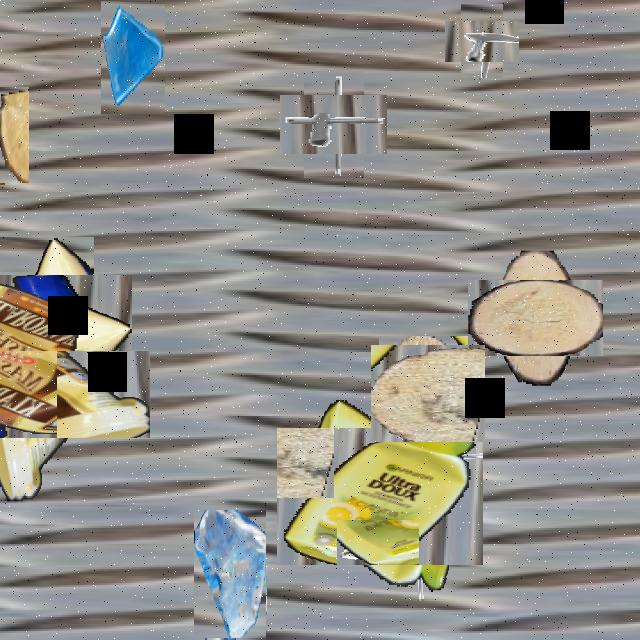glass: (194, 510, 266, 638), (101, 1, 165, 116)
metal: (292, 83, 376, 166), (302, 462, 366, 526), (403, 535, 447, 613), (453, 12, 511, 70), (0, 528, 4, 613)
plastic: (294, 410, 466, 582), (0, 319, 119, 469), (0, 255, 113, 388)
wood: (482, 265, 588, 371), (375, 340, 481, 446), (0, 87, 29, 183)
